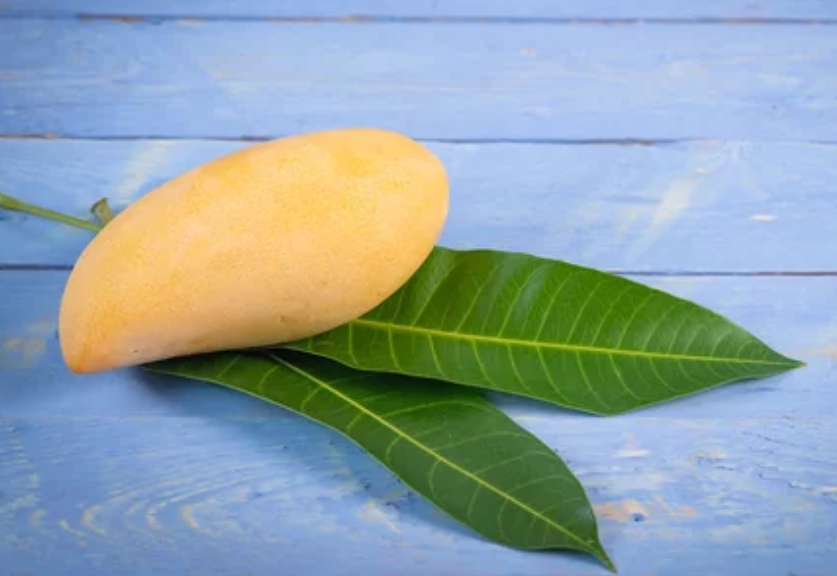mango: (56, 127, 452, 377)
